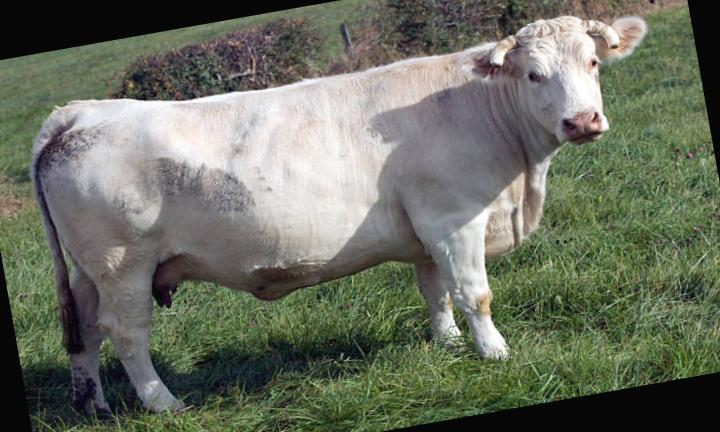Charolais: (30, 16, 646, 412)
